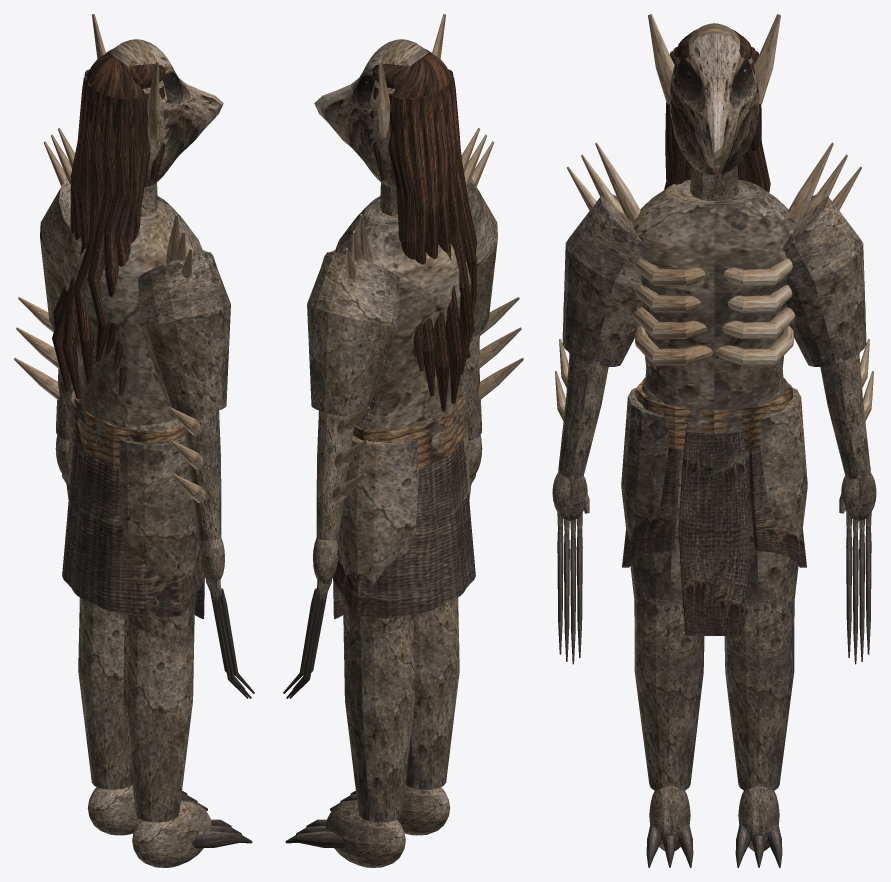
File: maip.obj
The picture shows the model from 3 angles, left to right: view 1: azimuth 30°, elevation 25°; view 2: azimuth 150°, elevation 25°; view 3: azimuth 270°, elevation 25°; orthographic projection.
Parts seen in each view (by area): view 1: torso_skin, left_upper_skin, forest_wrap_rags, left_shin_skin, left_thigh_skin, right_shin_skin, head_face, left_foot_skin, left_fore_skin, hair_lock_05_hair, hair_lock_06_hair, hair_lock_07_hair (+19 smaller); view 2: right_upper_skin, forest_wrap_rags, right_shin_skin, torso_skin, right_thigh_skin, left_shin_skin, head_face, right_foot_skin, right_fore_skin, hair_lock_04_hair, hair_lock_03_hair, hair_lock_02_hair (+20 smaller); view 3: torso_skin, front_waist_rag_rags, left_shin_skin, right_shin_skin, left_upper_skin, right_upper_skin, head_face, left_thigh_skin, right_thigh_skin, forest_wrap_rags, left_fore_skin, right_fore_skin (+29 smaller).
Boxes of the visible parts, x1,y1,x2,y2 form: torso_skin: (62, 196, 202, 435); left_upper_skin: (138, 252, 230, 417); forest_wrap_rags: (62, 439, 204, 618); left_shin_skin: (123, 613, 194, 822); left_thigh_skin: (118, 436, 200, 642); right_shin_skin: (78, 597, 132, 789); head_face: (145, 41, 223, 183); left_foot_skin: (132, 800, 212, 867); left_fore_skin: (183, 410, 221, 540); hair_lock_05_hair: (73, 89, 104, 383); hair_lock_06_hair: (87, 94, 117, 361); hair_lock_07_hair: (104, 97, 132, 354); right_upper_skin: (307, 252, 399, 417); forest_wrap_rags: (333, 439, 475, 618); right_shin_skin: (343, 613, 414, 822); torso_skin: (335, 196, 471, 435); right_thigh_skin: (337, 436, 419, 642); left_shin_skin: (405, 597, 459, 789); head_face: (314, 41, 392, 183); right_foot_skin: (325, 800, 405, 867); right_fore_skin: (316, 410, 354, 540); hair_lock_04_hair: (434, 89, 463, 403); hair_lock_03_hair: (420, 94, 449, 411); hair_lock_02_hair: (406, 97, 435, 396); torso_skin: (632, 179, 796, 423); front_waist_rag_rags: (678, 430, 750, 635); left_shin_skin: (634, 597, 704, 791); right_shin_skin: (724, 597, 794, 791); left_upper_skin: (562, 194, 645, 366); right_upper_skin: (783, 194, 866, 366); head_face: (670, 33, 758, 174); left_thigh_skin: (621, 387, 683, 603); right_thigh_skin: (745, 387, 807, 603); forest_wrap_rags: (622, 447, 806, 567); left_fore_skin: (558, 353, 608, 479); right_fore_skin: (820, 353, 870, 479).
Size of the model in its own units: 19.81 by 100 by 35.76.
1 material, 1 textured.
